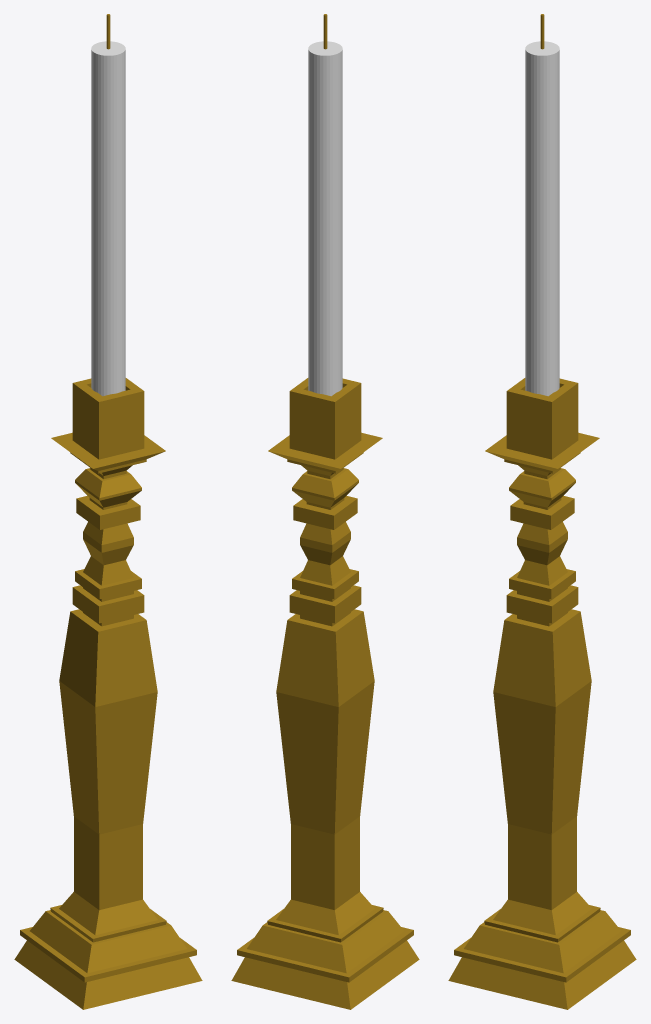
Rendered from M_BougieBougeoir.fbx.
The picture shows the model from 3 angles, left to right: view 1: azimuth 30°, elevation 25°; view 2: azimuth 150°, elevation 25°; view 3: azimuth 330°, elevation 25°; orthographic projection.
Parts seen in each view (by area): view 1: Cube; view 2: Cube; view 3: Cube.
Boxes of the visible parts, left/top/right/bottom form: Cube: left=14, top=14, right=202, bottom=1009; Cube: left=231, top=14, right=419, bottom=1009; Cube: left=448, top=14, right=636, bottom=1009.
Bounding box in the file's own units: 40 × 306 × 40.
